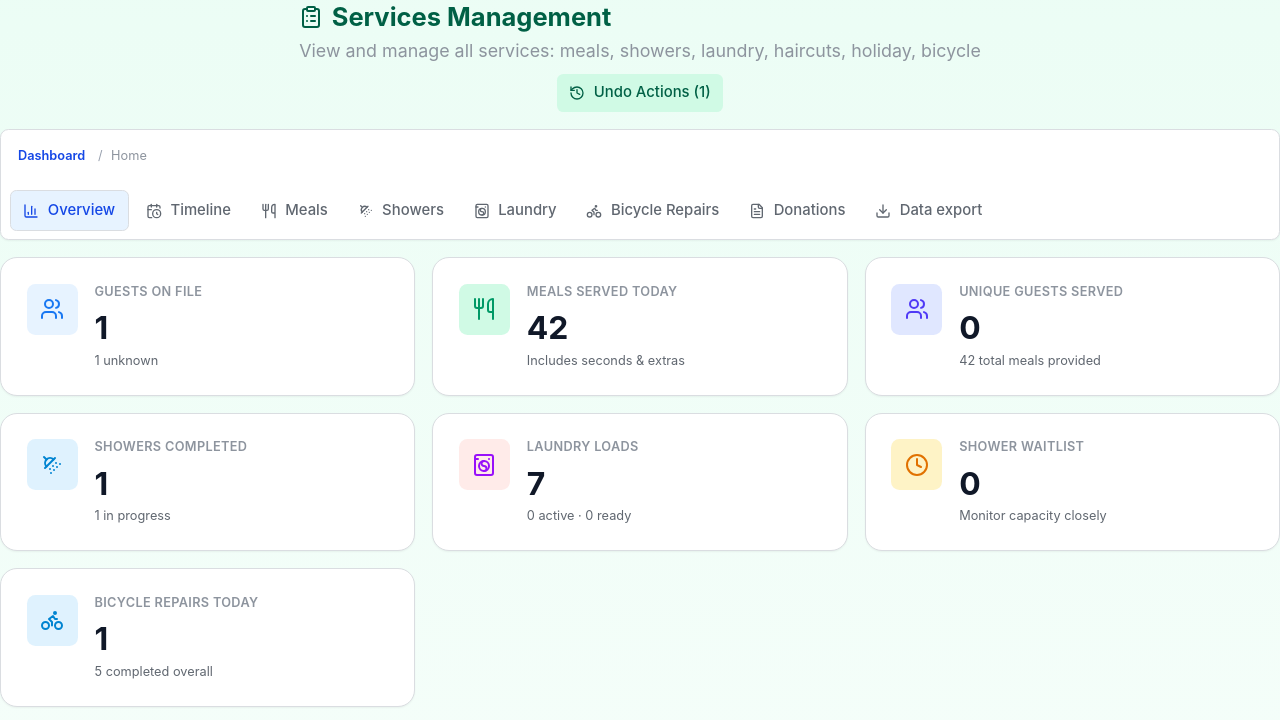
Test: Services page › resolves guest name properly with mismatched IDs
This screenshot has width=1280, height=720.
Click the button "Meals".
click(294, 211)  # box 248,190 -> 341,231
(page scrolled)
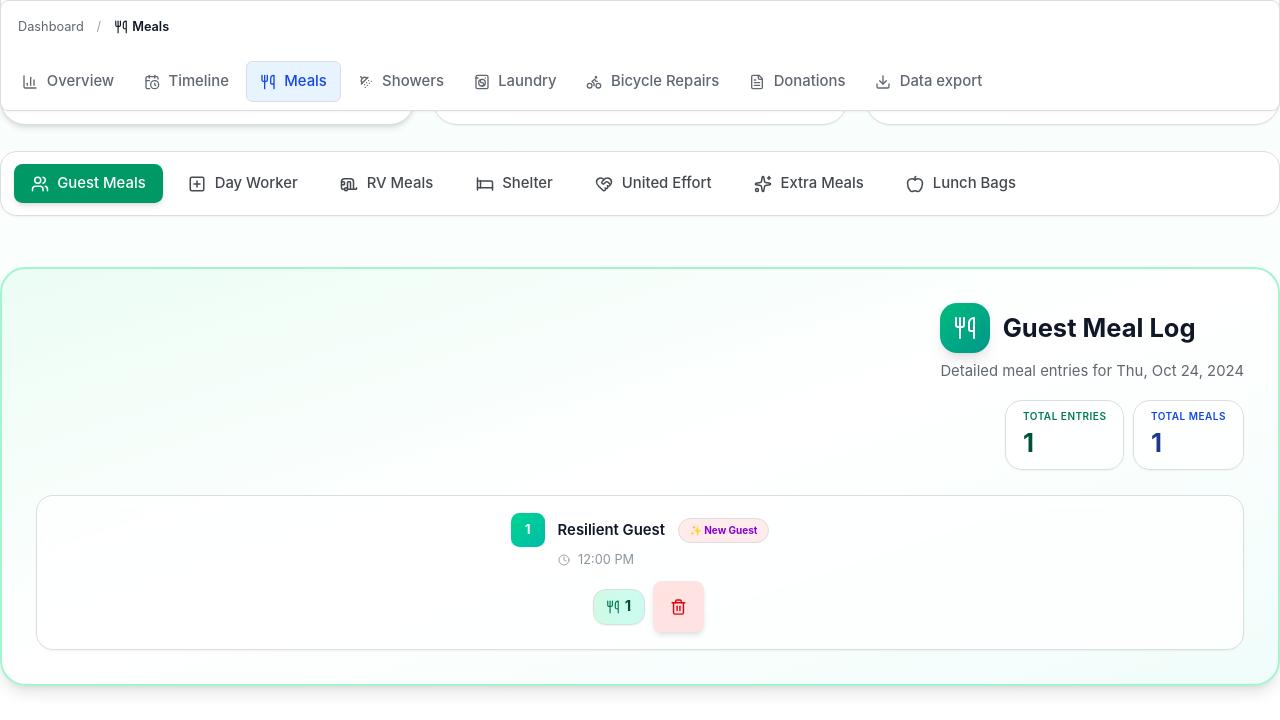
Now the heading "Resilient Guest" is shown, box 558,520 -> 665,541
